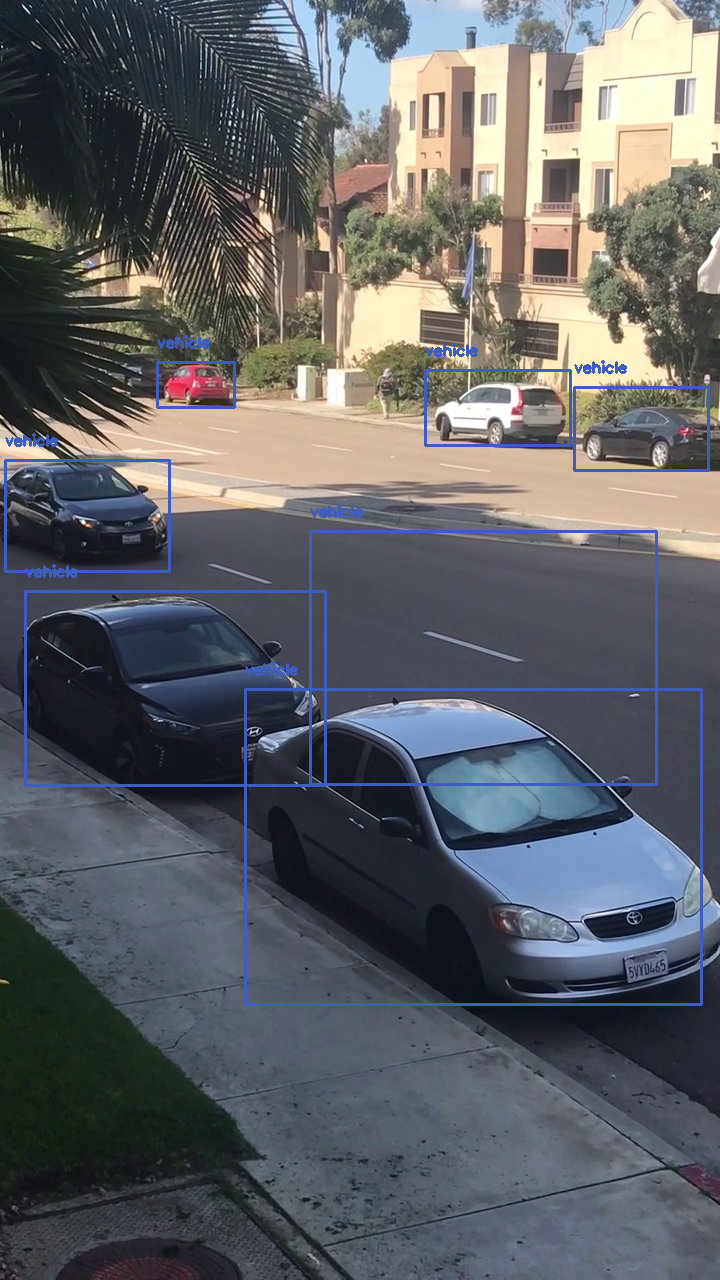vehicle: (245, 689, 701, 1004), (310, 531, 656, 784), (25, 591, 325, 785), (5, 460, 169, 571), (574, 387, 708, 470), (425, 370, 570, 445), (157, 362, 234, 407)
